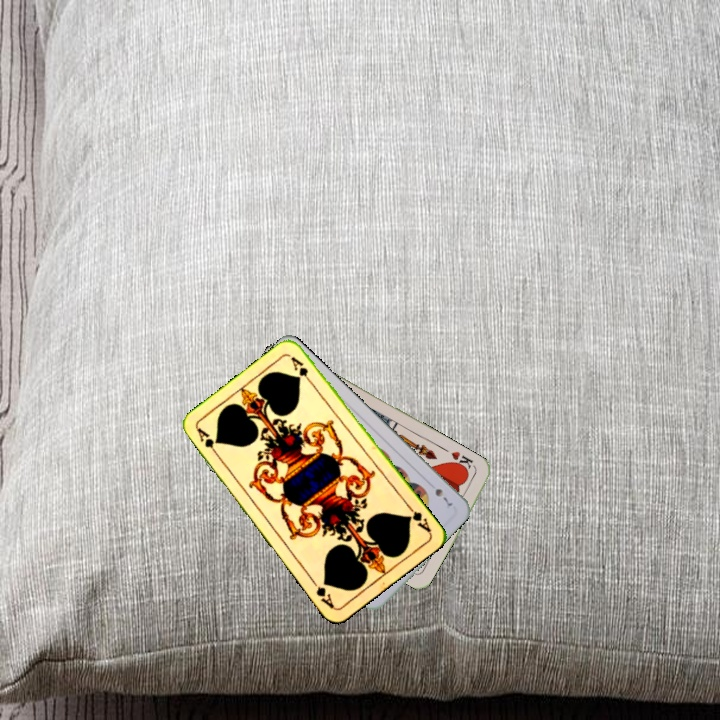GA: (403, 500, 434, 535), (192, 423, 221, 460)
HK: (446, 447, 479, 474)
S7: (431, 484, 455, 511)
